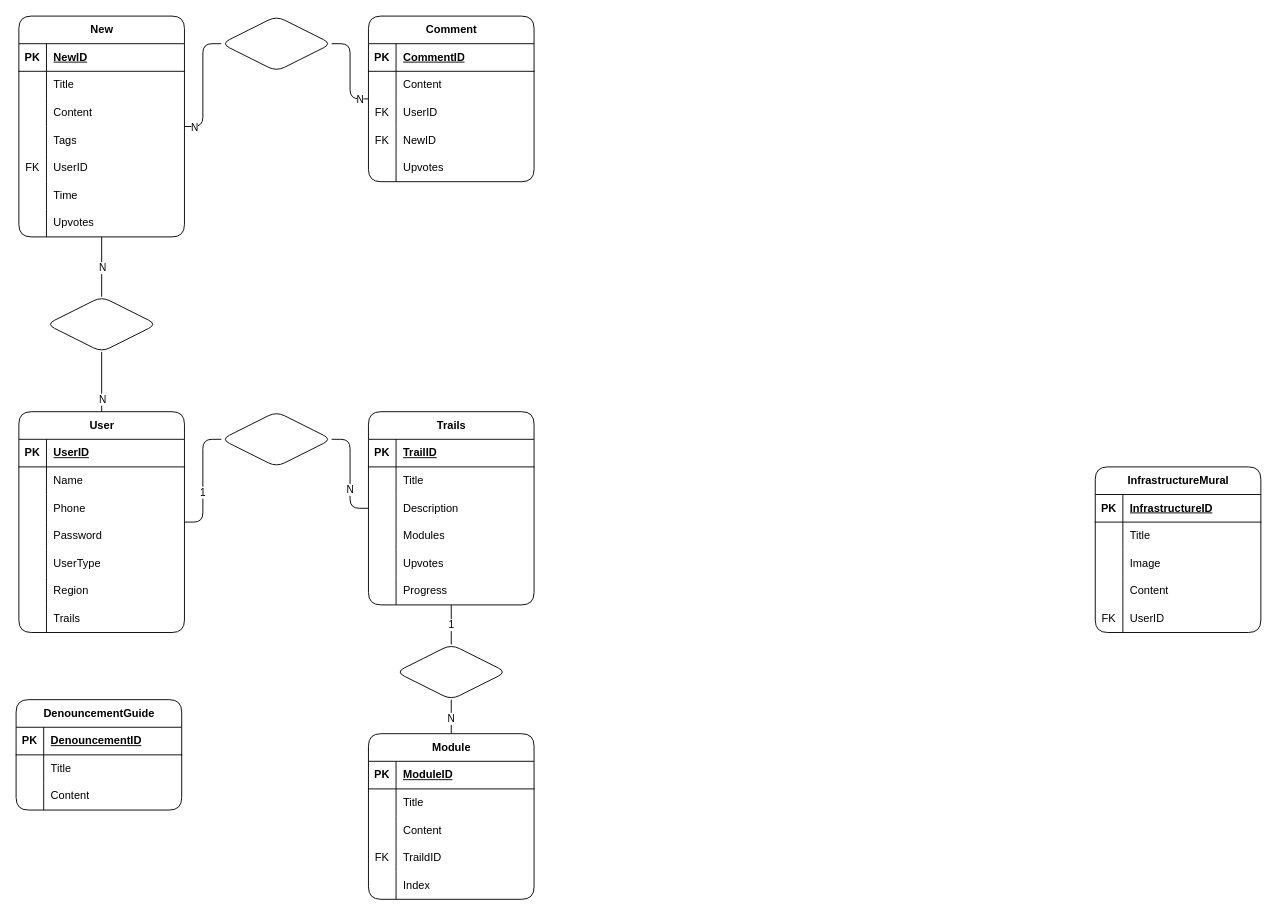
Image size: 1277x915. Some labels were removed from this diagram. Each missing label, with the box of its shape:
Comenta: (46, 296, 157, 352)
Cursa: (220, 411, 332, 467)
Possui: (395, 644, 506, 700)
Recebe: (220, 15, 332, 71)
